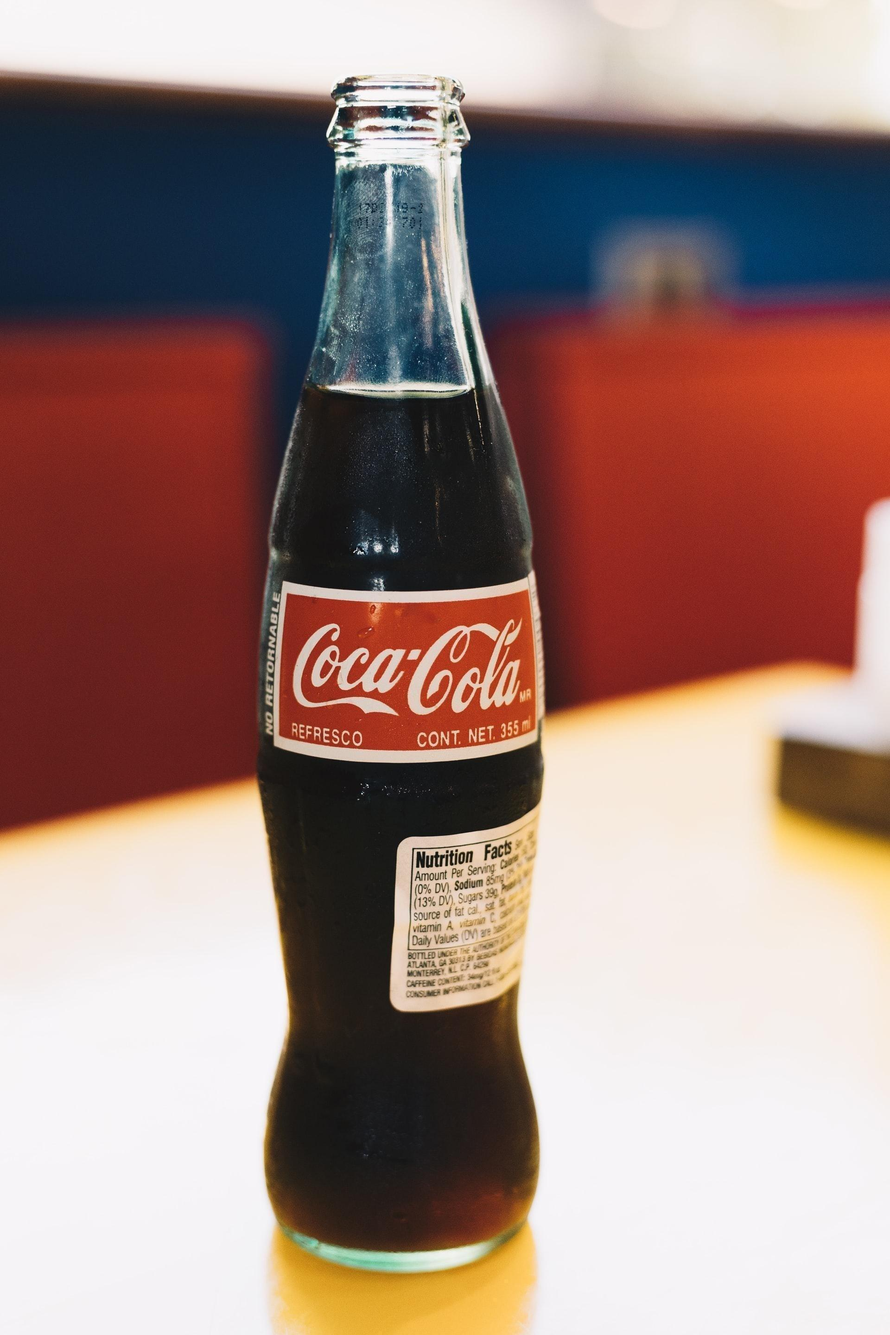bottle-glass: (237, 64, 562, 1287)
